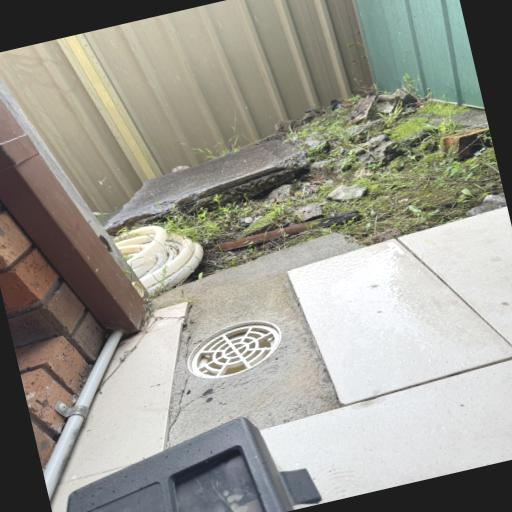gap: (240, 228, 403, 274), (467, 194, 507, 216)
